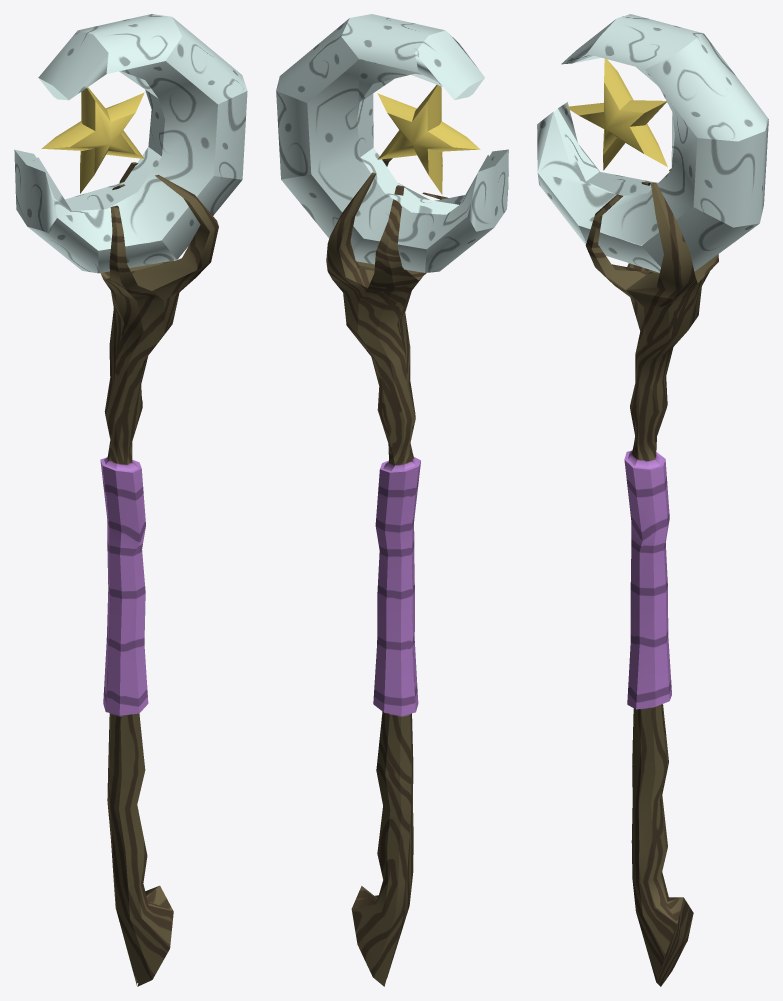
Rendered from AssetBaston.fbx.
The picture shows the model from 3 angles, left to right: view 1: azimuth 30°, elevation 25°; view 2: azimuth 150°, elevation 25°; view 3: azimuth 330°, elevation 25°; orthographic projection.
Visible parts, largest first — view 1: BastonLuna, Baston, BastonEstrella; view 2: BastonLuna, Baston, BastonEstrella; view 3: BastonLuna, Baston, BastonEstrella.
Boxes of the visible parts, x1,y1,x2,y2 form: BastonLuna: (14,14,247,273); Baston: (100,162,218,986); BastonEstrella: (41,87,144,193); BastonLuna: (276,14,508,272); Baston: (326,158,448,986); BastonEstrella: (377,85,480,194); BastonLuna: (537,14,768,272); Baston: (585,168,718,986); BastonEstrella: (565,58,667,170).
Size of the model in its own units: 1.13 by 4.84 by 0.6163.
